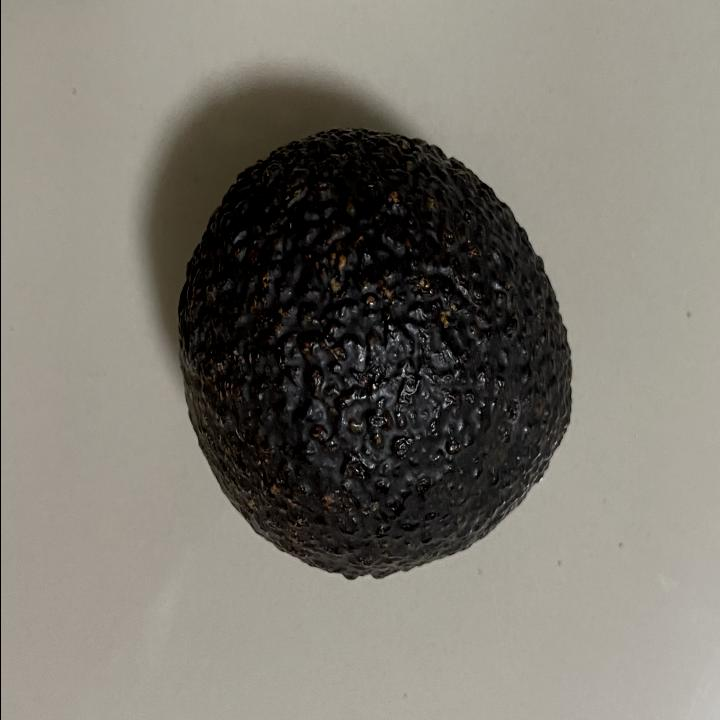Level2: (170, 117, 582, 591)
